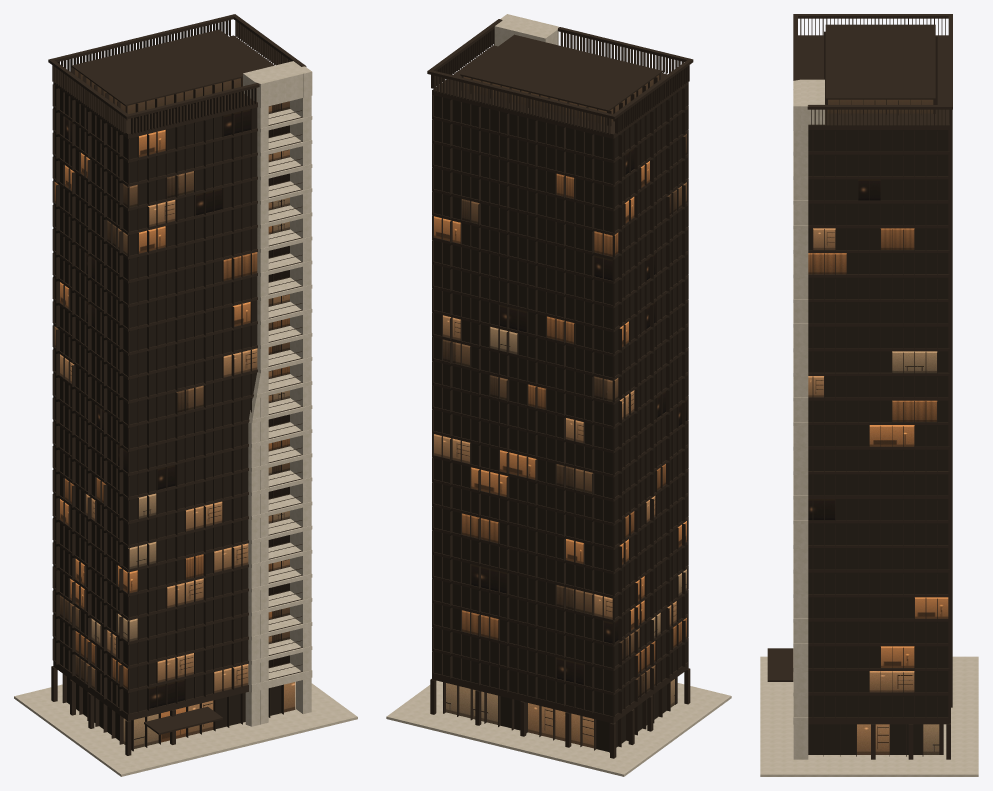
File: tower.glb
3 renders of one model, left to right at view 1: azimuth 30°, elevation 25°; view 2: azimuth 150°, elevation 25°; view 3: azimuth 270°, elevation 25°, orthographic. The views are drawn at different scales.
Parts seen in each view (by area): view 1: Crown, Podium, Glass_13, Glass_14, Glass_16, Glass_23, Glass_15, Glass_18, Glass_21, Glass_19, Glass_17, Glass_20 (+64 smaller); view 2: Crown, Podium, Glass_03, Glass_20, Glass_15, Glass_19, Glass_05, Glass_10, Glass_04, Glass_08, Glass_13, Glass_14 (+39 smaller); view 3: Crown, Podium, Glass_03, Glass_15, Glass_20, Glass_02, Glass_04, Glass_06, Glass_07, Glass_09, Glass_11, Glass_14 (+64 smaller).
Boxes of the visible parts, <box> form: Crown: <box>48,14,306,138</box>; Podium: <box>14,663,357,776</box>; Glass_13: <box>54,326,257,400</box>; Glass_14: <box>54,302,257,376</box>; Glass_16: <box>54,254,257,327</box>; Glass_23: <box>54,85,257,159</box>; Glass_15: <box>54,278,257,351</box>; Glass_18: <box>54,206,257,279</box>; Glass_21: <box>54,134,257,207</box>; Glass_19: <box>54,182,257,255</box>; Glass_17: <box>54,230,257,303</box>; Glass_20: <box>54,158,257,231</box>; Crown: <box>427,19,693,138</box>; Podium: <box>386,665,731,776</box>; Glass_03: <box>434,569,686,643</box>; Glass_20: <box>434,158,686,232</box>; Glass_15: <box>434,279,686,353</box>; Glass_19: <box>434,182,686,256</box>; Glass_05: <box>434,521,686,595</box>; Glass_10: <box>434,400,686,474</box>; Glass_04: <box>434,545,686,619</box>; Glass_08: <box>434,448,686,522</box>; Glass_13: <box>434,327,686,401</box>; Glass_14: <box>434,303,686,377</box>; Crown: <box>793,14,952,129</box>; Podium: <box>760,648,978,776</box>; Glass_03: <box>808,621,948,643</box>; Glass_15: <box>808,326,948,348</box>; Glass_20: <box>808,203,948,225</box>; Glass_02: <box>808,646,948,667</box>; Glass_04: <box>808,597,948,618</box>; Glass_06: <box>808,548,948,569</box>; Glass_07: <box>808,523,948,544</box>; Glass_09: <box>808,474,948,495</box>; Glass_11: <box>808,425,948,446</box>; Glass_14: <box>808,351,948,372</box>.
Bounding box in the file's own units: 37 × 96.05 × 29.
4 materials, 2 textured.
